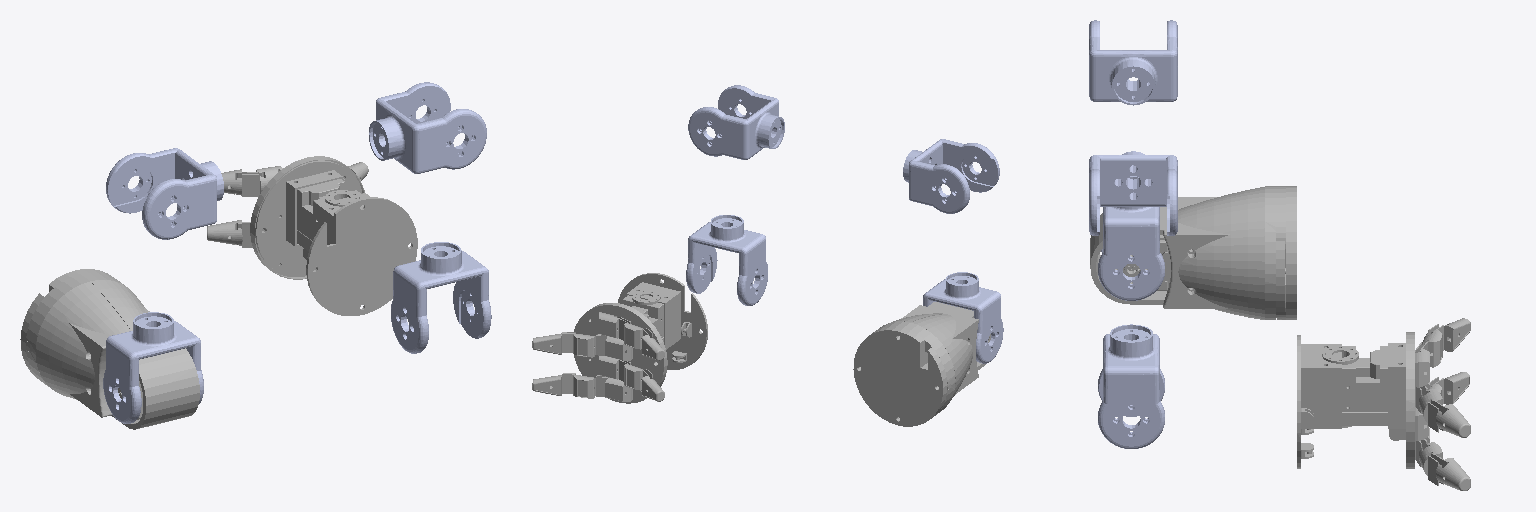
The robot description file, URDF, robot "flov2_robot_description":
<?xml version="1.0" encoding="utf-8"?>
<!-- This URDF was automatically created by SolidWorks to URDF Exporter! Originally created by Stephen Brawner (brawner@gmail.com) 
     Commit Version: 1.6.0-4-g7f85cfe  Build Version: 1.6.7995.38578
     For more information, please see http://wiki.ros.org/sw_urdf_exporter -->
<robot
  name="flov2_robot_description">
  
  
  <link name="world"/>
  
  
  
  <joint name="base_joint" type="fixed">
	<parent link="world"/>
	<child link="base_link"/>
	<origin rpy="0 0 0" xyz="0.0 0.0 1"/>
  </joint>  
  
  
  
  
  
  
  <link
    name="base_link">
    <inertial>
      <origin
        xyz="0.000333168231091641 -0.0490077134325242 0.105556739128517"
        rpy="0 0 0" />
      <mass
        value="0.43756889593348" />
      <inertia
        ixx="0.000780173945392212"
        ixy="1.72547696446317E-06"
        ixz="-8.11722846382893E-08"
        iyy="0.000825842165328829"
        iyz="4.67151417985947E-05"
        izz="0.000643183765667985" />
    </inertial>
    <visual>
      <origin
        xyz="0 0 0"
        rpy="0 0 0" />
      <geometry>
        <mesh
          filename="package://flov2_robot_description/meshes/base_link.STL" />
      </geometry>
      <material
        name="">
        <color
          rgba="1 1 1 1" />
      </material>
    </visual>
    <collision>
      <origin
        xyz="0 0 0"
        rpy="0 0 0" />
      <geometry>
        <mesh
          filename="package://flov2_robot_description/meshes/base_link.STL" />
      </geometry>
    </collision>
  </link>
  <link
    name="right_up_joint">
    <inertial>
      <origin
        xyz="5.09595480396863E-10 7.24041410160581E-10 -0.0157092653420775"
        rpy="0 0 0" />
      <mass
        value="0.0208133468453592" />
      <inertia
        ixx="6.27974968154285E-06"
        ixy="-1.32343047844373E-11"
        ixz="8.95773787765367E-14"
        iyy="1.11423800240112E-05"
        iyz="1.27944084467922E-13"
        izz="8.2135527700594E-06" />
    </inertial>
    <visual>
      <origin
        xyz="0 0 0"
        rpy="0 0 0" />
      <geometry>
        <mesh
          filename="package://flov2_robot_description/meshes/right_up_joint.STL" />
      </geometry>
      <material
        name="">
        <color
          rgba="0.792156862745098 0.819607843137255 0.933333333333333 1" />
      </material>
    </visual>
    <collision>
      <origin
        xyz="0 0 0"
        rpy="0 0 0" />
      <geometry>
        <mesh
          filename="package://flov2_robot_description/meshes/right_up_joint.STL" />
      </geometry>
    </collision>
  </link>
  <joint
    name="r1"
    type="revolute">
    <origin
      xyz="0.093361 -0.051062 0.13081"
      rpy="1.5708 0 1.5708" />
    <parent
      link="base_link" />
    <child
      link="right_up_joint" />
    <axis
      xyz="0 0 1" />
    <limit
      lower="-3.14"
      upper="3.14"
      effort="100"
      velocity="10" />
  </joint>
  <link
    name="right_up_arm">
    <inertial>
      <origin
        xyz="0.0373903260955437 6.01721482870188E-05 -0.00541151025560814"
        rpy="0 0 0" />
      <mass
        value="0.142004365290478" />
      <inertia
        ixx="3.19807239576317E-05"
        ixy="-4.35320002639335E-08"
        ixz="2.24405433812147E-06"
        iyy="6.16421105939794E-05"
        iyz="9.8162953354545E-10"
        izz="6.84742764155626E-05" />
    </inertial>
    <visual>
      <origin
        xyz="0 0 0"
        rpy="0 0 0" />
      <geometry>
        <mesh
          filename="package://flov2_robot_description/meshes/right_up_arm.STL" />
      </geometry>
      <material
        name="">
        <color
          rgba="0.752941176470588 0.752941176470588 0.752941176470588 1" />
      </material>
    </visual>
    <collision>
      <origin
        xyz="0 0 0"
        rpy="0 0 0" />
      <geometry>
        <mesh
          filename="package://flov2_robot_description/meshes/right_up_arm.STL" />
      </geometry>
    </collision>
  </link>
  <joint
    name="r2"
    type="revolute">
    <origin
      xyz="0 0 0"
      rpy="-1.5708 0 -1.5708" />
    <parent
      link="right_up_joint" />
    <child
      link="right_up_arm" />
    <axis
      xyz="0 0 -1" />
    <limit
      lower="-3.14"
      upper="3.14"
      effort="100"
      velocity="10" />
  </joint>
  <link
    name="right_low_joint">
    <inertial>
      <origin
        xyz="5.09595032838206E-10 7.24041260974362E-10 -0.0157092653420775"
        rpy="0 0 0" />
      <mass
        value="0.0208133468453592" />
      <inertia
        ixx="6.27974968154287E-06"
        ixy="-1.32343047943505E-11"
        ixz="8.95773982853656E-14"
        iyy="1.11423800240113E-05"
        iyz="1.27944096469429E-13"
        izz="8.21355277005941E-06" />
    </inertial>
    <visual>
      <origin
        xyz="0 0 0"
        rpy="0 0 0" />
      <geometry>
        <mesh
          filename="package://flov2_robot_description/meshes/right_low_joint.STL" />
      </geometry>
      <material
        name="">
        <color
          rgba="0.792156862745098 0.819607843137255 0.933333333333333 1" />
      </material>
    </visual>
    <collision>
      <origin
        xyz="0 0 0"
        rpy="0 0 0" />
      <geometry>
        <mesh
          filename="package://flov2_robot_description/meshes/right_low_joint.STL" />
      </geometry>
    </collision>
  </link>
  <joint
    name="r3"
    type="revolute">
    <origin
      xyz="0.117 0 -0.001"
      rpy="-1.5708 -3.1416 -1.5708" />
    <parent
      link="right_up_arm" />
    <child
      link="right_low_joint" />
    <axis
      xyz="0 0 1" />
    <limit
      lower="-3.14"
      upper="3.14"
      effort="100"
      velocity="10" />
  </joint>
  <link
    name="right_low_arm">
    <inertial>
      <origin
        xyz="0.00014535 0.04812 0.00014102"
        rpy="0 0 0" />
      <mass
        value="0.18903" />
      <inertia
        ixx="8.2107E-05"
        ixy="3.3864E-07"
        ixz="5.514E-07"
        iyy="7.698E-05"
        iyz="-3.2583E-09"
        izz="0.00010333" />
    </inertial>
    <visual>
      <origin
        xyz="0 0 0"
        rpy="0 0 0" />
      <geometry>
        <mesh
          filename="package://flov2_robot_description/meshes/right_low_arm.STL" />
      </geometry>
      <material
        name="">
        <color
          rgba="0.75294 0.75294 0.75294 1" />
      </material>
    </visual>
    <collision>
      <origin
        xyz="0 0 0"
        rpy="0 0 0" />
      <geometry>
        <mesh
          filename="package://flov2_robot_description/meshes/right_low_arm.STL" />
      </geometry>
    </collision>
  </link>
  <joint
    name="r4"
    type="revolute">
    <origin
      xyz="0 0 0"
      rpy="0 -1.5708 0" />
    <parent
      link="right_low_joint" />
    <child
      link="right_low_arm" />
    <axis
      xyz="0 0 -1" />
    <limit
      lower="-3.14"
      upper="3.14"
      effort="100"
      velocity="10" />
  </joint>
  <link
    name="right_gripper">
    <inertial>
      <origin
        xyz="0.0039403 0.00064863 -0.021633"
        rpy="0 0 0" />
      <mass
        value="0.1033" />
      <inertia
        ixx="2.0963E-05"
        ixy="2.9075E-08"
        ixz="-3.1217E-07"
        iyy="1.8932E-05"
        iyz="1.7556E-08"
        izz="2.3352E-05" />
    </inertial>
    <visual>
      <origin
        xyz="0 0 0"
        rpy="0 0 0" />
      <geometry>
        <mesh
          filename="package://flov2_robot_description/meshes/right_gripper.STL" />
      </geometry>
      <material
        name="">
        <color
          rgba="0.75294 0.75294 0.75294 1" />
      </material>
    </visual>
    <collision>
      <origin
        xyz="0 0 0"
        rpy="0 0 0" />
      <geometry>
        <mesh
          filename="package://flov2_robot_description/meshes/right_gripper.STL" />
      </geometry>
    </collision>
  </link>
  <joint
    name="r5"
    type="fixed">
    <origin
      xyz="-0.000250000000047877 0.151140016004298 -0.000500000000000056"
      rpy="1.5707963267949 0 -3.14159265358979" />
    <parent
      link="right_low_arm" />
    <child
      link="right_gripper" />
    <axis
      xyz="0 0 0" />
  </joint>
  <link
    name="left_up_joint">
    <inertial>
      <origin
        xyz="-5.09595435294052E-10 -7.24041521182883E-10 -0.0157092653420776"
        rpy="0 0 0" />
      <mass
        value="0.0208133468453592" />
      <inertia
        ixx="6.27974968154287E-06"
        ixy="-1.32343047861331E-11"
        ixz="-8.95773956338105E-14"
        iyy="1.11423800240112E-05"
        iyz="-1.2794410246096E-13"
        izz="8.21355277005941E-06" />
    </inertial>
    <visual>
      <origin
        xyz="0 0 0"
        rpy="0 0 0" />
      <geometry>
        <mesh
          filename="package://flov2_robot_description/meshes/left_up_joint.STL" />
      </geometry>
      <material
        name="">
        <color
          rgba="0.792156862745098 0.819607843137255 0.933333333333333 1" />
      </material>
    </visual>
    <collision>
      <origin
        xyz="0 0 0"
        rpy="0 0 0" />
      <geometry>
        <mesh
          filename="package://flov2_robot_description/meshes/left_up_joint.STL" />
      </geometry>
    </collision>
  </link>
  <joint
    name="l1"
    type="revolute">
    <origin
      xyz="-0.0936387883044479 -0.0510621773979172 0.130726931673384"
      rpy="-1.5707963267949 0 1.5707963267949" />
    <parent
      link="base_link" />
    <child
      link="left_up_joint" />
    <axis
      xyz="0 0 1" />
    <limit
      lower="-3.14"
      upper="3.14"
      effort="100"
      velocity="10" />
  </joint>
  <link
    name="left_up_arm">
    <inertial>
      <origin
        xyz="0.0373903260955438 6.01721482865747E-05 -0.00541151025560831"
        rpy="0 0 0" />
      <mass
        value="0.142004365290478" />
      <inertia
        ixx="3.19807239576316E-05"
        ixy="-4.35320002639623E-08"
        ixz="2.24405433812155E-06"
        iyy="6.16421105939794E-05"
        iyz="9.81629533561284E-10"
        izz="6.84742764155625E-05" />
    </inertial>
    <visual>
      <origin
        xyz="0 0 0"
        rpy="0 0 0" />
      <geometry>
        <mesh
          filename="package://flov2_robot_description/meshes/left_up_arm.STL" />
      </geometry>
      <material
        name="">
        <color
          rgba="0.752941176470588 0.752941176470588 0.752941176470588 1" />
      </material>
    </visual>
    <collision>
      <origin
        xyz="0 0 0"
        rpy="0 0 0" />
      <geometry>
        <mesh
          filename="package://flov2_robot_description/meshes/left_up_arm.STL" />
      </geometry>
    </collision>
  </link>
  <joint
    name="l2"
    type="revolute">
    <origin
      xyz="0 0 0"
      rpy="1.5707963267949 0 1.57079632679489" />
    <parent
      link="left_up_joint" />
    <child
      link="left_up_arm" />
    <axis
      xyz="0 0 -1" />
    <limit
      lower="-3.14"
      upper="3.14"
      effort="100"
      velocity="10" />
  </joint>
  <link
    name="left_low_joint">
    <inertial>
      <origin
        xyz="2.22044604925031E-16 -2.85966136187588E-10 -0.0157092656103693"
        rpy="0 0 0" />
      <mass
        value="0.0208133475595526" />
      <inertia
        ixx="6.27974985366218E-06"
        ixy="-1.33778831812008E-11"
        ixz="1.17417841451904E-19"
        iyy="1.114238023727E-05"
        iyz="-4.94677559588482E-14"
        izz="8.21355305611453E-06" />
    </inertial>
    <visual>
      <origin
        xyz="0 0 0"
        rpy="0 0 0" />
      <geometry>
        <mesh
          filename="package://flov2_robot_description/meshes/left_low_joint.STL" />
      </geometry>
      <material
        name="">
        <color
          rgba="0.792156862745098 0.819607843137255 0.933333333333333 1" />
      </material>
    </visual>
    <collision>
      <origin
        xyz="0 0 0"
        rpy="0 0 0" />
      <geometry>
        <mesh
          filename="package://flov2_robot_description/meshes/left_low_joint.STL" />
      </geometry>
    </collision>
  </link>
  <joint
    name="l3"
    type="revolute">
    <origin
      xyz="0.117 0 -0.00100000000000006"
      rpy="-1.57079632679491 0 -1.5707963267949" />
    <parent
      link="left_up_arm" />
    <child
      link="left_low_joint" />
    <axis
      xyz="0 0 1" />
    <limit
      lower="-3.14"
      upper="3.14"
      effort="100"
      velocity="10" />
  </joint>
  <link
    name="left_low_arm">
    <inertial>
      <origin
        xyz="0.0481196273812194 -0.000145349329485027 0.000141021295786414"
        rpy="0 0 0" />
      <mass
        value="0.18903364369622" />
      <inertia
        ixx="7.6979741225698E-05"
        ixy="-3.38641336425106E-07"
        ixz="-3.25828337644394E-09"
        iyy="8.21074310058178E-05"
        iyz="-5.51403520464896E-07"
        izz="0.000103326261719523" />
    </inertial>
    <visual>
      <origin
        xyz="0 0 0"
        rpy="0 0 0" />
      <geometry>
        <mesh
          filename="package://flov2_robot_description/meshes/left_low_arm.STL" />
      </geometry>
      <material
        name="">
        <color
          rgba="0.752941176470588 0.752941176470588 0.752941176470588 1" />
      </material>
    </visual>
    <collision>
      <origin
        xyz="0 0 0"
        rpy="0 0 0" />
      <geometry>
        <mesh
          filename="package://flov2_robot_description/meshes/left_low_arm.STL" />
      </geometry>
    </collision>
  </link>
  <joint
    name="l4"
    type="revolute">
    <origin
      xyz="0 0 0"
      rpy="-1.5708 0 -1.5708" />
    <parent
      link="left_low_joint" />
    <child
      link="left_low_arm" />
    <axis
      xyz="0 0 -1" />
    <limit
      lower="-3.14"
      upper="3.14"
      effort="100"
      velocity="10" />
  </joint>
  <link
    name="left_gripper">
    <inertial>
      <origin
        xyz="0.00394028289479455 -0.0216328066989446 -0.000648626674702557"
        rpy="0 0 0" />
      <mass
        value="0.103299324219439" />
      <inertia
        ixx="2.09630043696831E-05"
        ixy="-3.12167035365804E-07"
        ixz="-2.90752267814504E-08"
        iyy="2.33522908570638E-05"
        iyz="-1.75561004581666E-08"
        izz="1.89319959235233E-05" />
    </inertial>
    <visual>
      <origin
        xyz="0 0 0"
        rpy="0 0 0" />
      <geometry>
        <mesh
          filename="package://flov2_robot_description/meshes/left_gripper.STL" />
      </geometry>
      <material
        name="">
        <color
          rgba="0.752941176470588 0.752941176470588 0.752941176470588 1" />
      </material>
    </visual>
    <collision>
      <origin
        xyz="0 0 0"
        rpy="0 0 0" />
      <geometry>
        <mesh
          filename="package://flov2_robot_description/meshes/left_gripper.STL" />
      </geometry>
    </collision>
  </link>
  <joint
    name="l5"
    type="fixed">
    <origin
      xyz="0.15114 0.00025 -0.0005"
      rpy="-3.1416 0 1.5708" />
    <parent
      link="left_low_arm" />
    <child
      link="left_gripper" />
    <axis
      xyz="0 0 0" />
  </joint>
  
  
  
  <transmission name="left_up_joint_trans">
	<type>transmission_interface/SimpleTransmission</type>
	<joint name="l1">
		<hardwareInterface>hardware_interface/PositionJointInterface</hardwareInterface>
	</joint>
	<actuator name="left_up_joint_motor">
		<hardwareInterface>hardware_interface/PositionJointInterface</hardwareInterface>
		<mechanicalReduction>1</mechanicalReduction>
	</actuator>
  </transmission>
  
  <transmission name="left_up_arm_trans">
	<type>transmission_interface/SimpleTransmission</type>
	<joint name="l2">
		<hardwareInterface>hardware_interface/PositionJointInterface</hardwareInterface>
	</joint>
	<actuator name="left_up_arm_motor">
		<hardwareInterface>hardware_interface/PositionJointInterface</hardwareInterface>
		<mechanicalReduction>1</mechanicalReduction>
	</actuator>
  </transmission>
  
  <transmission name="left_low_joint_trans">
	<type>transmission_interface/SimpleTransmission</type>
	<joint name="l3">
		<hardwareInterface>hardware_interface/PositionJointInterface</hardwareInterface>
	</joint>
	<actuator name="left_low_joint_motor">
		<hardwareInterface>hardware_interface/PositionJointInterface</hardwareInterface>
		<mechanicalReduction>1</mechanicalReduction>
	</actuator>
  </transmission>
  
  <transmission name="left_low_arm_trans">
	<type>transmission_interface/SimpleTransmission</type>
	<joint name="l4">
		<hardwareInterface>hardware_interface/PositionJointInterface</hardwareInterface>
	</joint>
	<actuator name="left_low_arm_motor">
		<hardwareInterface>hardware_interface/PositionJointInterface</hardwareInterface>
		<mechanicalReduction>1</mechanicalReduction>
	</actuator>
  </transmission>  
  
  
  
  <transmission name="right_up_joint_trans">
	<type>transmission_interface/SimpleTransmission</type>
	<joint name="r1">
		<hardwareInterface>hardware_interface/PositionJointInterface</hardwareInterface>
	</joint>
	<actuator name="right_up_joint_motor">
		<hardwareInterface>hardware_interface/PositionJointInterface</hardwareInterface>
		<mechanicalReduction>1</mechanicalReduction>
	</actuator>
  </transmission>
  
  <transmission name="right_up_arm_trans">
	<type>transmission_interface/SimpleTransmission</type>
	<joint name="r2">
		<hardwareInterface>hardware_interface/PositionJointInterface</hardwareInterface>
	</joint>
	<actuator name="right_up_arm_motor">
		<hardwareInterface>hardware_interface/PositionJointInterface</hardwareInterface>
		<mechanicalReduction>1</mechanicalReduction>
	</actuator>
  </transmission>
  
  <transmission name="right_low_joint_trans">
	<type>transmission_interface/SimpleTransmission</type>
	<joint name="r3">
		<hardwareInterface>hardware_interface/PositionJointInterface</hardwareInterface>
	</joint>
	<actuator name="right_low_joint_motor">
		<hardwareInterface>hardware_interface/PositionJointInterface</hardwareInterface>
		<mechanicalReduction>1</mechanicalReduction>
	</actuator>
  </transmission>
  
  <transmission name="right_low_arm_trans">
	<type>transmission_interface/SimpleTransmission</type>
	<joint name="r4">
		<hardwareInterface>hardware_interface/PositionJointInterface</hardwareInterface>
	</joint>
	<actuator name="right_low_arm_motor">
		<hardwareInterface>hardware_interface/PositionJointInterface</hardwareInterface>
		<mechanicalReduction>1</mechanicalReduction>
	</actuator>
  </transmission>  
  
  <gazebo>
	<plugin name="control" filename="libgazebo_ros_control.so">
		<robotNamespace>/</robotNamespace>
	</plugin>
  </gazebo>
  
  
  <!-- Keep self-collision off for the full arm mesh model. These links use
       detailed STL collision geometry, and blanket self-collision makes
       Gazebo Classic extremely slow in Docker/WSL. -->
  <gazebo reference="left_up_joint">
	<selfCollide>false</selfCollide>
  </gazebo>

  <gazebo reference="left_up_arm">
	<selfCollide>false</selfCollide>
  </gazebo>
  
  <gazebo reference="left_low_joint">
	<selfCollide>false</selfCollide>
  </gazebo>
  
    <gazebo reference="left_low_arm">
	<selfCollide>false</selfCollide>
  </gazebo>
  
  <gazebo reference="right_up_joint">
	<selfCollide>false</selfCollide>
  </gazebo>

  <gazebo reference="right_up_arm">
	<selfCollide>false</selfCollide>
  </gazebo>
  
  <gazebo reference="right_low_joint">
	<selfCollide>false</selfCollide>
  </gazebo>
  
  <gazebo reference="right_low_arm">
	<selfCollide>false</selfCollide>
  </gazebo>
  
  <gazebo reference="right_gripper">
	<selfCollide>false</selfCollide>
  </gazebo>
  
    <gazebo reference="left_gripper">
	<selfCollide>false</selfCollide>
  </gazebo>
  
  
  
  
  
  
  
  
  
</robot>

--- What the picture shows (computed from the rendered views, not written in the file) ---
The picture shows the robot from 3 angles, left to right: view 1: azimuth 30°, elevation 25°; view 2: azimuth 150°, elevation 25°; view 3: azimuth 270°, elevation 25°; orthographic projection.
Model flov2_robot_description with 12 links and 11 joints (8 revolute, 3 fixed), rooted at world, posed all joints at 0.
Links seen in each view (by area): view 1: right_gripper, left_low_arm, right_up_joint, left_up_joint, right_low_joint, left_low_joint; view 2: right_gripper, left_low_arm, right_up_joint, left_up_joint, right_low_joint, left_low_joint; view 3: left_low_arm, right_gripper, right_low_joint, left_up_joint, right_up_joint, left_low_joint.
Boxes of the visible links, x1,y1,x2,y2 form: right_gripper: (207,156,417,315); left_low_arm: (20,269,199,429); right_up_joint: (369,82,486,173); left_up_joint: (106,148,223,239); right_low_joint: (391,242,491,353); left_low_joint: (103,312,203,423); right_gripper: (532,273,707,403); left_low_arm: (853,302,990,426); right_up_joint: (688,85,784,159); left_up_joint: (903,139,999,213); right_low_joint: (686,215,767,305); left_low_joint: (923,272,1003,363); left_low_arm: (1090,186,1296,319); right_gripper: (1297,318,1470,490); right_low_joint: (1098,324,1164,448); left_up_joint: (1089,20,1177,105); right_up_joint: (1089,151,1177,235); left_low_joint: (1098,176,1164,300).
Bounding box of the posed robot: 0.2765 × 0.2031 × 0.1712 m (x, y, z).
6 mesh visuals loaded from 11 distinct referenced files (6 binary STL); not drawn: 5 (reference not matched to a file when rendering).
